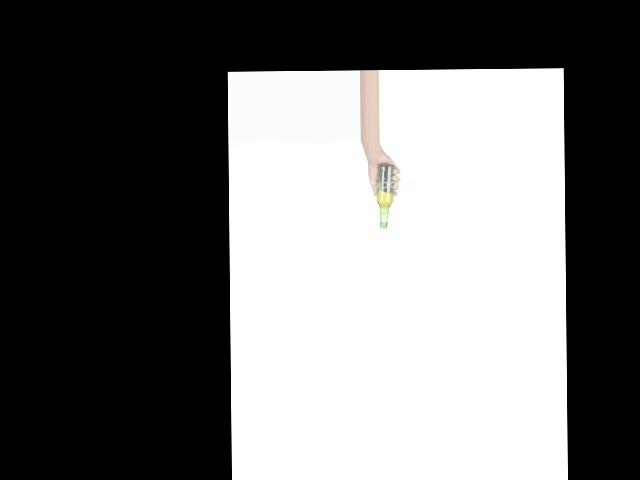beer: (375, 164, 393, 229)
